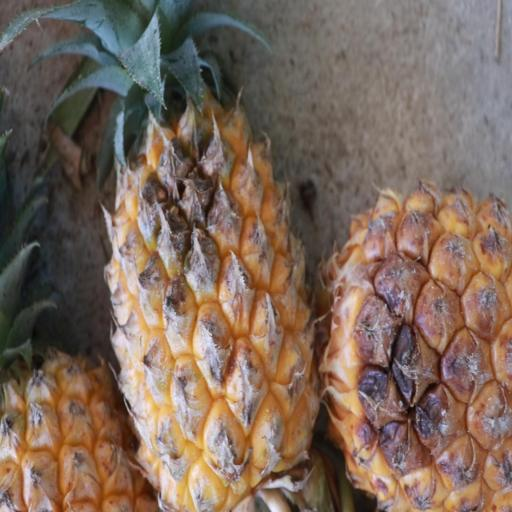Pineapple - v8 v1: (98, 4, 324, 512), (309, 191, 511, 512)
